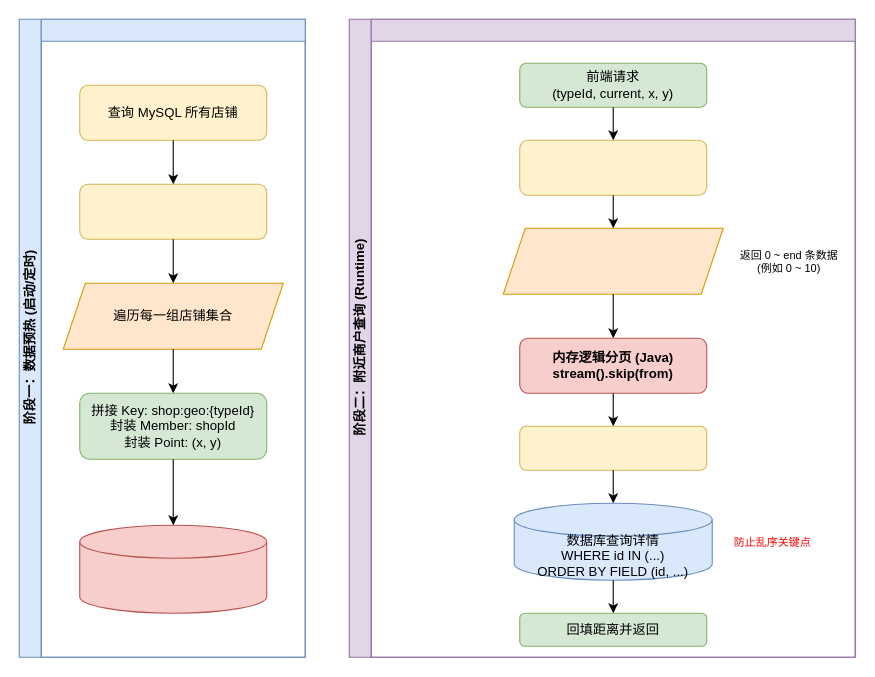
This 875x677 diagram has some shape labels left out. The centre of each missing label's shape, as x and y in pixels:
Redis GEOSEARCH Radius 5000m Limit end: (612,260)
写入 Redis (GEOADD) 底层 ZSet: Score=GeoHash: (173,568)
按 TypeId 分组: (173,211)
收集 ID 列表 和 Distance Map: (613,447)
计算分页参数 from = (current-1)*size end = current*size: (613,167)
